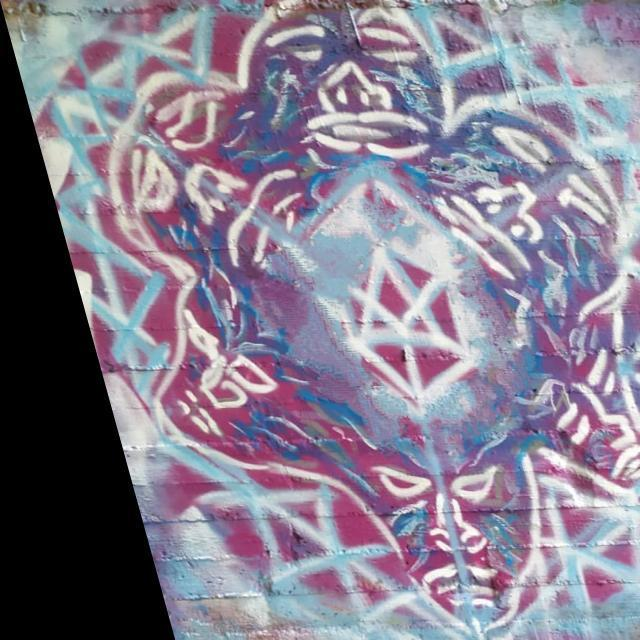-: (8, 0, 640, 640), (9, 0, 640, 640)
